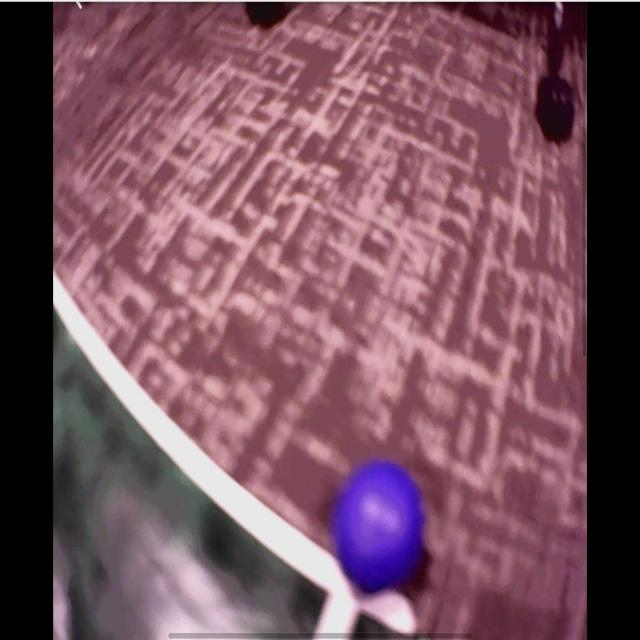ball: (334, 464, 424, 591)
